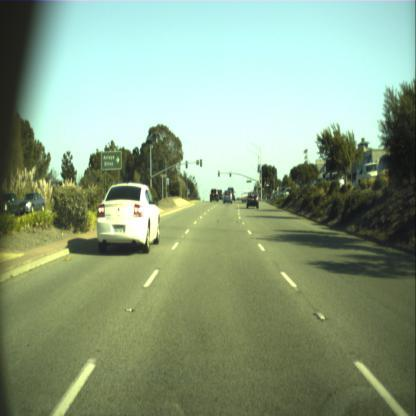Red: (230, 170, 232, 177)
RedLeft: (218, 170, 219, 177)
